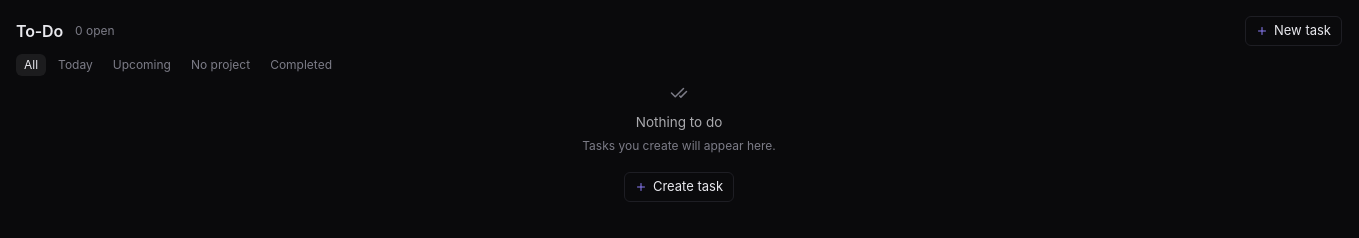
Test case: TodoView empty state › answers each filter in its own words
Expected: the text "Nothing to do" is shown, [636,112,722,132]
Click the button "Today": (75, 65) [50,54,101,76]
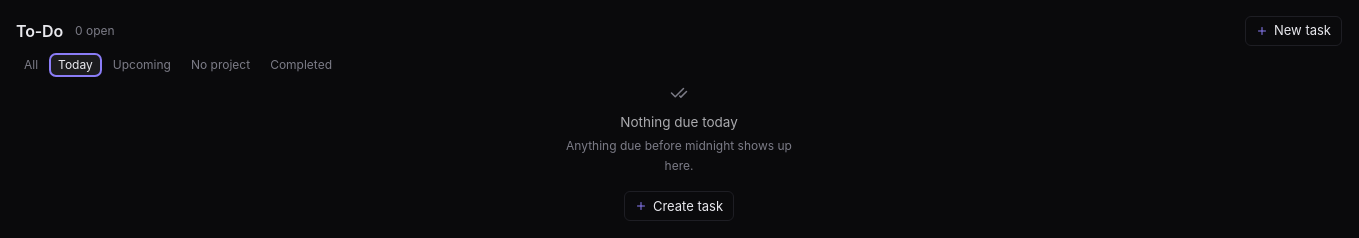
Result: the text "Nothing due today" is shown at [620,112,738,132]
Click the button "Upcoming": (142, 65) [105,54,179,76]
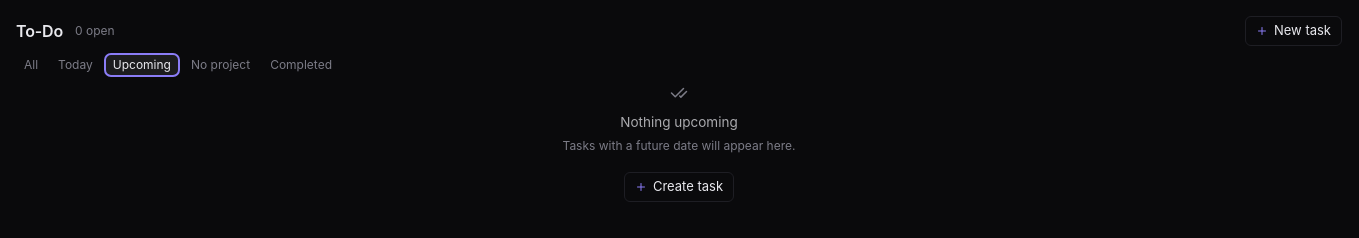
Result: the text "Nothing upcoming" is shown at [620,112,738,132]
Click the button "No project": (221, 65) [183,54,258,76]
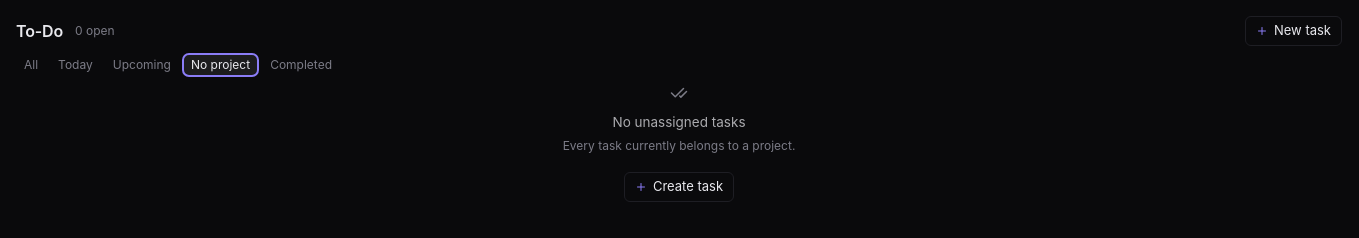
Result: the text "No unassigned tasks" is shown at [612,112,746,132]
